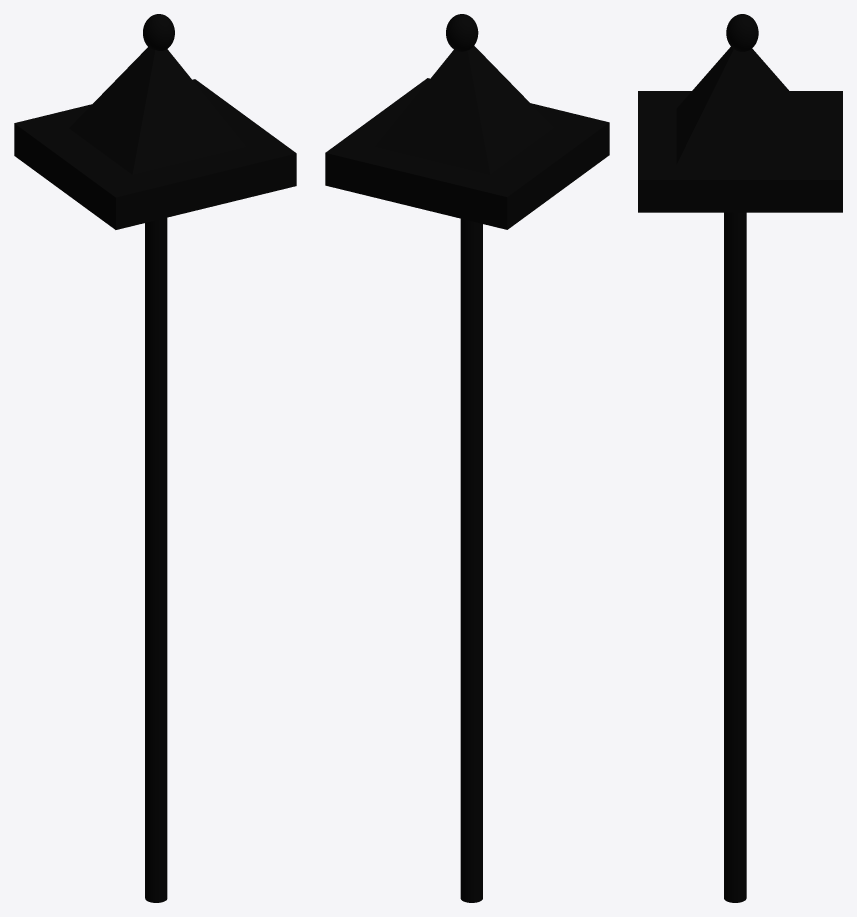
File: candeeiroEstrutura.glb
3 views of the same model, side by side, from view 1: azimuth 30°, elevation 25°; view 2: azimuth 150°, elevation 25°; view 3: azimuth 270°, elevation 25° (orthographic).
Parts seen in each view (by area): view 1: mesh_id166, mesh_id162, mesh_id164, mesh_id168; view 2: mesh_id166, mesh_id162, mesh_id164, mesh_id168; view 3: mesh_id166, mesh_id162, mesh_id164, mesh_id168.
Boxes of the visible parts, box(x1,y1,x2,y2) form: mesh_id166: box(14, 79, 296, 229); mesh_id162: box(145, 217, 167, 902); mesh_id164: box(69, 47, 246, 174); mesh_id168: box(143, 14, 174, 50); mesh_id166: box(325, 78, 609, 229); mesh_id162: box(460, 218, 482, 902); mesh_id164: box(376, 46, 553, 174); mesh_id168: box(446, 14, 478, 51); mesh_id166: box(638, 91, 842, 212); mesh_id162: box(724, 212, 746, 902); mesh_id164: box(676, 47, 804, 164); mesh_id168: box(726, 14, 758, 51).
Bounding box in the file's own units: 0.1187 × 0.551 × 0.1155.
4 materials, 4 textured.
